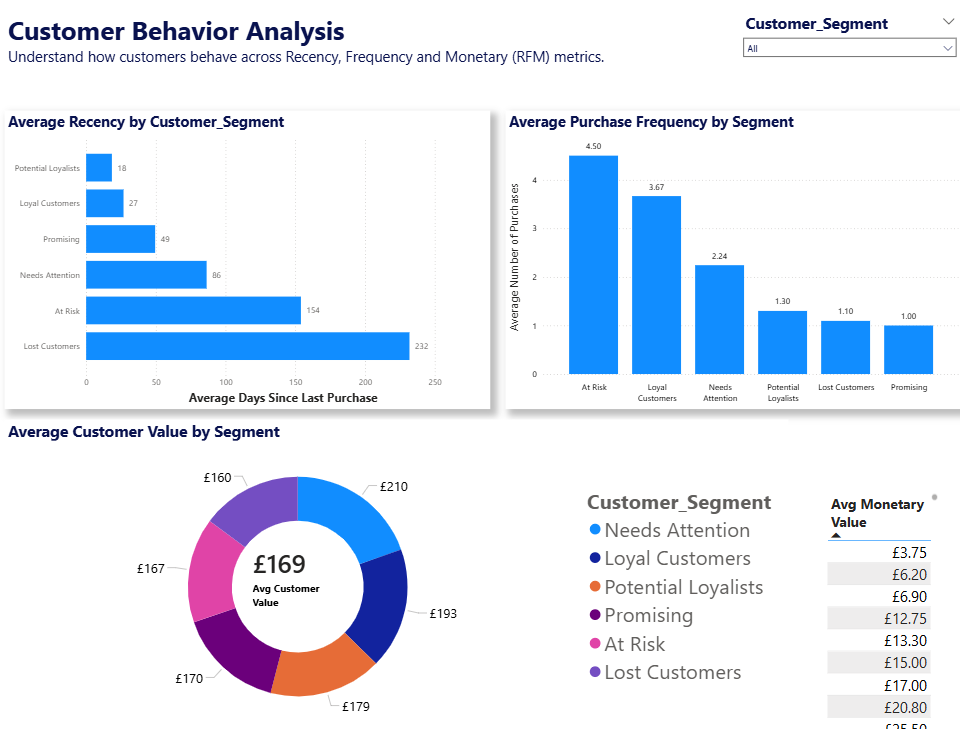

The page's visual inventory and layout, read from the dashboard file:
{"tool":"powerbi","page":{"name":"Page 3","canvas":[1400,1100],"ordinal":2},"visuals":[{"type":"textbox","box":[10.9,32.2,954.3,130.4],"z":0},{"type":"slicer","fields":{"Values":["customer_segments.Customer_Segment"]},"box":[1072.1,32.2,329,115],"z":1000},{"type":"clusteredBarChart","fields":{"Category":["customer_segments.Customer_Segment"],"Y":["customer_segments.Average Recency"]},"box":[11.5,179.5,704,432.5],"z":2000},{"type":"clusteredColumnChart","title":"Average Purchase Frequency by Segment","fields":{"Category":["customer_segments.Customer_Segment"],"Y":["customer_segments.Average Frequency"]},"box":[737,180.4,663,432.6],"z":3000},{"type":"donutChart","title":"Average Customer Value by Segment","fields":{"Category":["customer_segments.Customer_Segment"],"Y":["customer_segments.Average Monetary"]},"box":[11.5,627.6,1136.3,453],"z":4000},{"type":"cardVisual","title":"Avg Customer Value","fields":{"Data":["customer_segments.Average Monetary"]},"box":[341.6,797.2,169.6,118.9],"z":5000},{"type":"tableEx","fields":{"Values":["Sum(customer_segments.Monetary)"]},"box":[1198.4,729.5,170.5,350],"z":6000}]}

Visuals, with their boxes in screenshot pixels (x1, y1, x2, y2), scaled from the page's 1400x1100 canvas onto the 960x741 screenshot:
textbox: (7, 22, 662, 110)
slicer - customer_segments.Customer_Segment: (735, 22, 959, 99)
clusteredBarChart - customer_segments.Customer_Segment x customer_segments.Average Recency: (8, 121, 491, 412)
"Average Purchase Frequency by Segment" clusteredColumnChart: (505, 122, 959, 413)
"Average Customer Value by Segment" donutChart: (8, 423, 787, 728)
"Avg Customer Value" cardVisual: (234, 537, 351, 617)
tableEx - Sum(customer_segments.Monetary): (822, 491, 939, 727)
